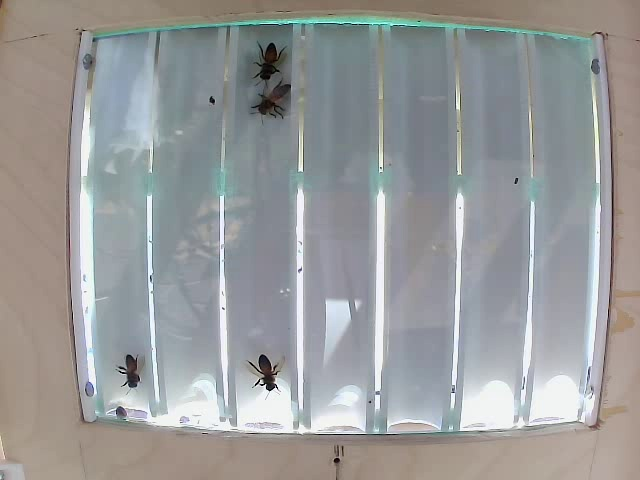bee: (110, 347, 149, 404), (244, 346, 280, 397), (254, 79, 293, 125), (256, 45, 284, 85)
